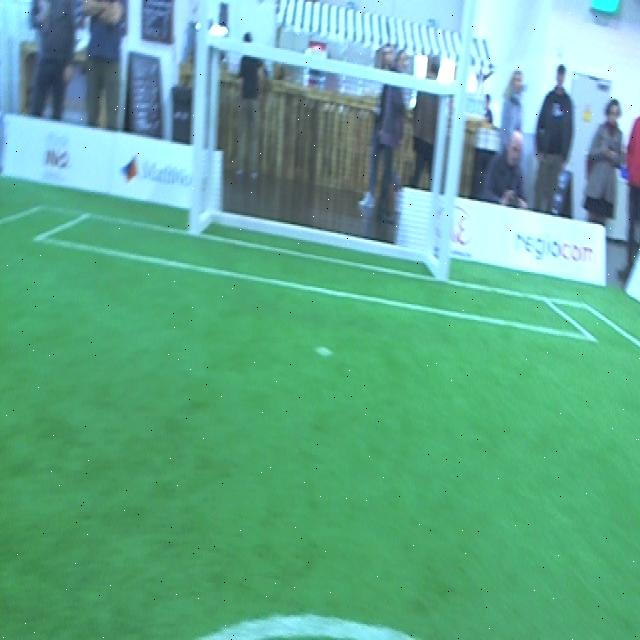goalpost: (435, 0, 475, 276), (189, 7, 205, 233)
